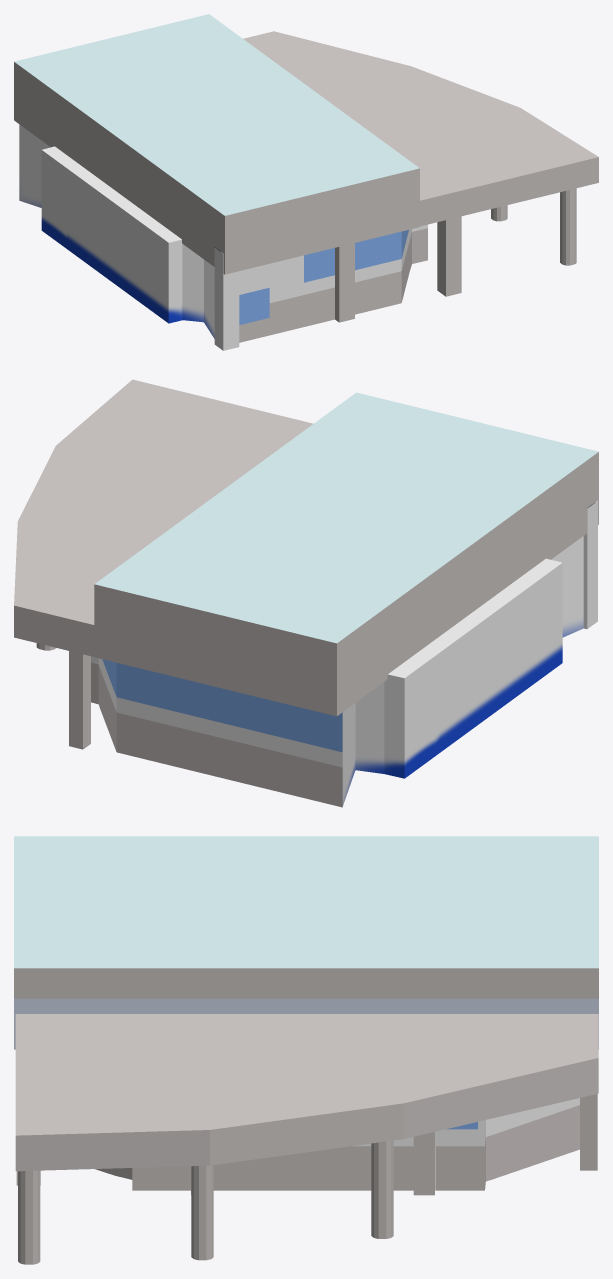
Rendered from tamoku.glb.
3 renders of one model, top to bottom at view 1: azimuth 30°, elevation 25°; view 2: azimuth 150°, elevation 25°; view 3: azimuth 270°, elevation 25°, orthographic. The views are drawn at different scales.
Parts seen in each view (by area): view 1: 多目的ホール・四角屋根, 多目的ホール, 多目的ホール・斜め屋根, 多目的ホール・四角柱.002, 多目的ホール・四角柱, 多目的ホール・四角柱.001, 多目的ホール・円柱; view 2: 多目的ホール・四角屋根, 多目的ホール, 多目的ホール・斜め屋根, 多目的ホール・四角柱_細め, 多目的ホール・四角柱.002; view 3: 多目的ホール・四角屋根, 多目的ホール・斜め屋根, 多目的ホール, 多目的ホール・円柱, 多目的ホール・中心の柱二本, 多目的ホール・四角柱_細め.
Boxes of the visible parts, x1=… form: 多目的ホール・四角屋根: x1=14, y1=14, x2=419, y2=274; 多目的ホール: x1=19, y1=124, x2=427, y2=342; 多目的ホール・斜め屋根: x1=243, y1=31, x2=598, y2=226; 多目的ホール・四角柱.002: x1=214, y1=247, x2=239, y2=350; 多目的ホール・四角柱: x1=437, y1=216, x2=461, y2=296; 多目的ホール・四角柱.001: x1=335, y1=243, x2=354, y2=322; 多目的ホール・円柱: x1=491, y1=188, x2=576, y2=265; 多目的ホール・四角屋根: x1=94, y1=392, x2=598, y2=716; 多目的ホール: x1=91, y1=536, x2=583, y2=807; 多目的ホール・斜め屋根: x1=14, y1=379, x2=313, y2=656; 多目的ホール・四角柱_細め: x1=69, y1=651, x2=90, y2=749; 多目的ホール・四角柱.002: x1=583, y1=500, x2=597, y2=628; 多目的ホール・四角屋根: x1=14, y1=836, x2=598, y2=1049; 多目的ホール・斜め屋根: x1=15, y1=1014, x2=598, y2=1171; 多目的ホール: x1=95, y1=1098, x2=579, y2=1190; 多目的ホール・円柱: x1=18, y1=1140, x2=393, y2=1264; 多目的ホール・中心の柱二本: x1=191, y1=1132, x2=434, y2=1195; 多目的ホール・四角柱_細め: x1=580, y1=1094, x2=597, y2=1170.
Bounding box in the file's own units: 6.46 × 2.18 × 6.08.
Materials: 2 (2 with a texture image).
